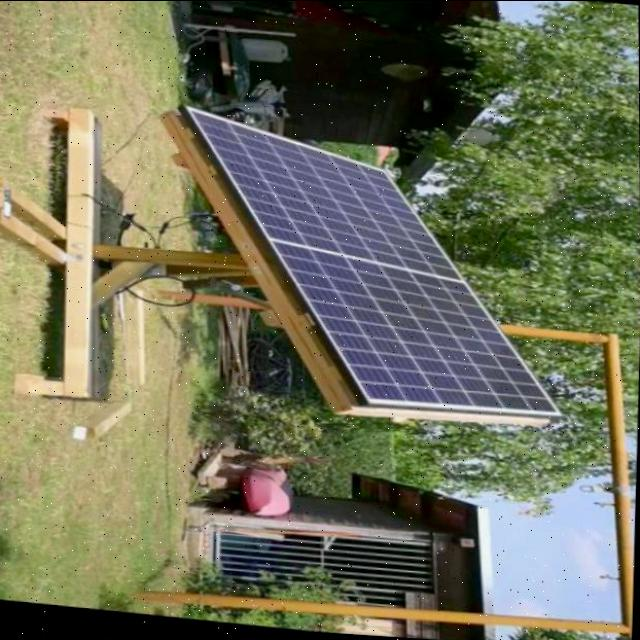Normal Solar Panel: (180, 111, 570, 426)
